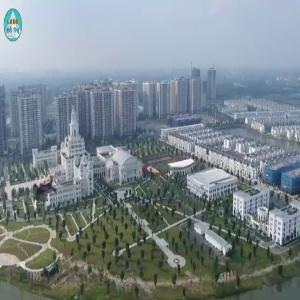drone: (27, 174, 64, 211)
